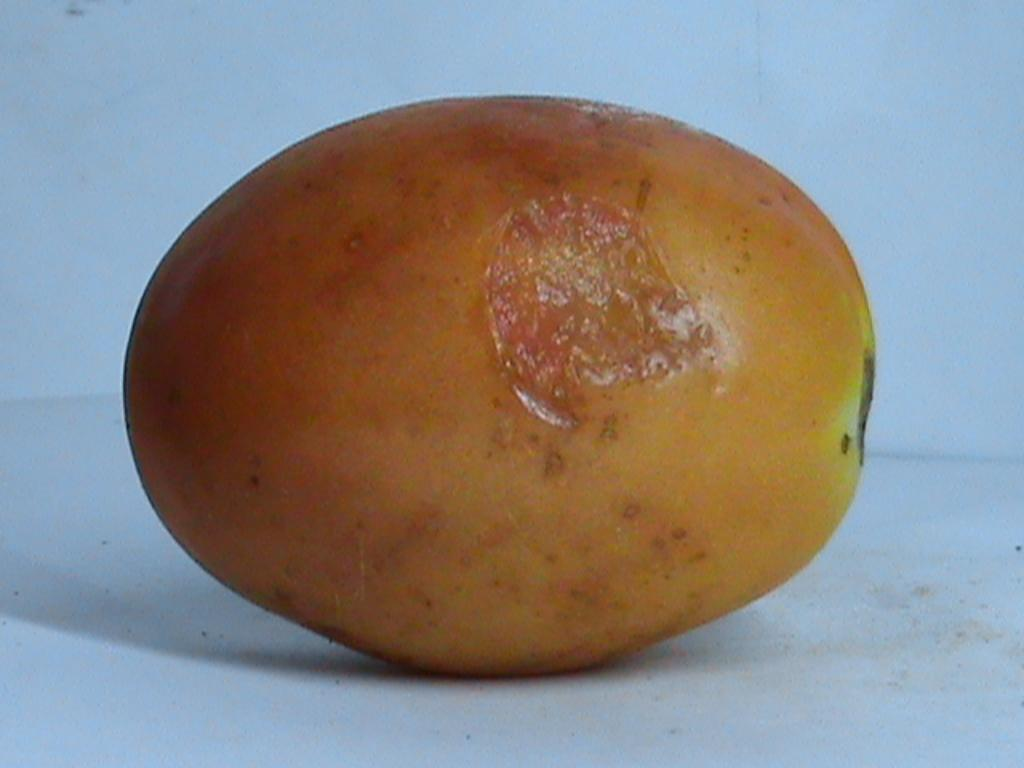rot_mold_decay: (485, 194, 707, 426)
tomato: (126, 98, 874, 672)
